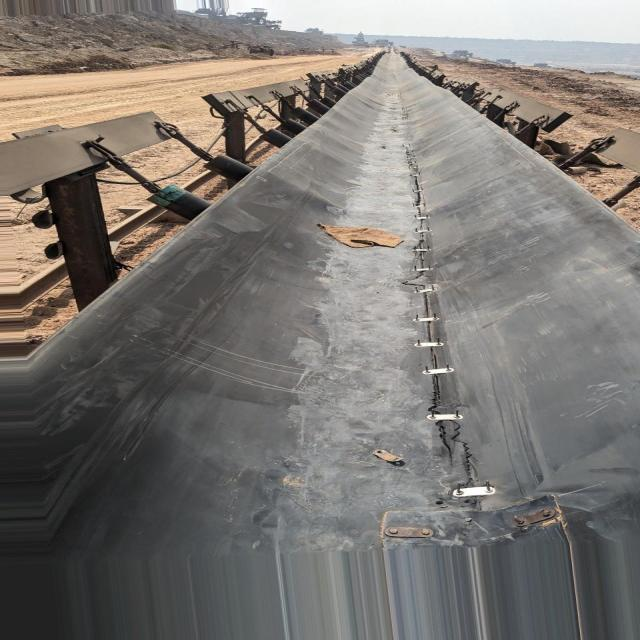Other Objects: (320, 226, 403, 247)
Roller: (259, 82, 354, 146), (145, 184, 212, 221), (205, 151, 254, 182)
patch work: (399, 150, 514, 506), (382, 493, 561, 549)
